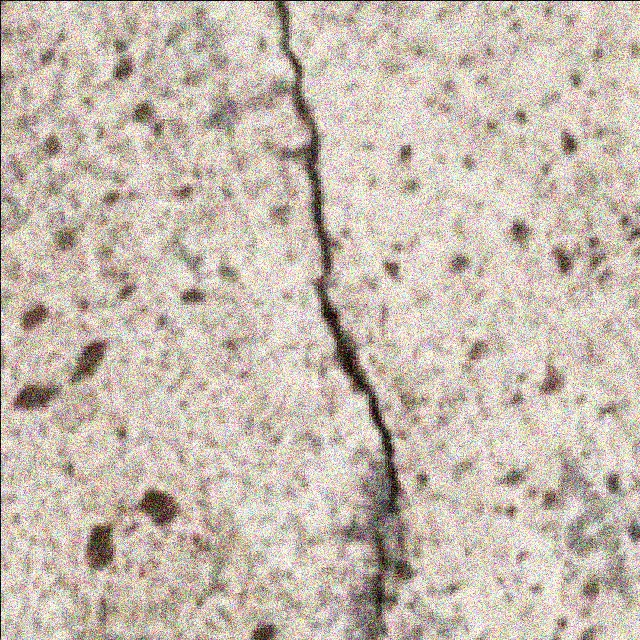SurfaceCrack: (210, 0, 448, 640)
